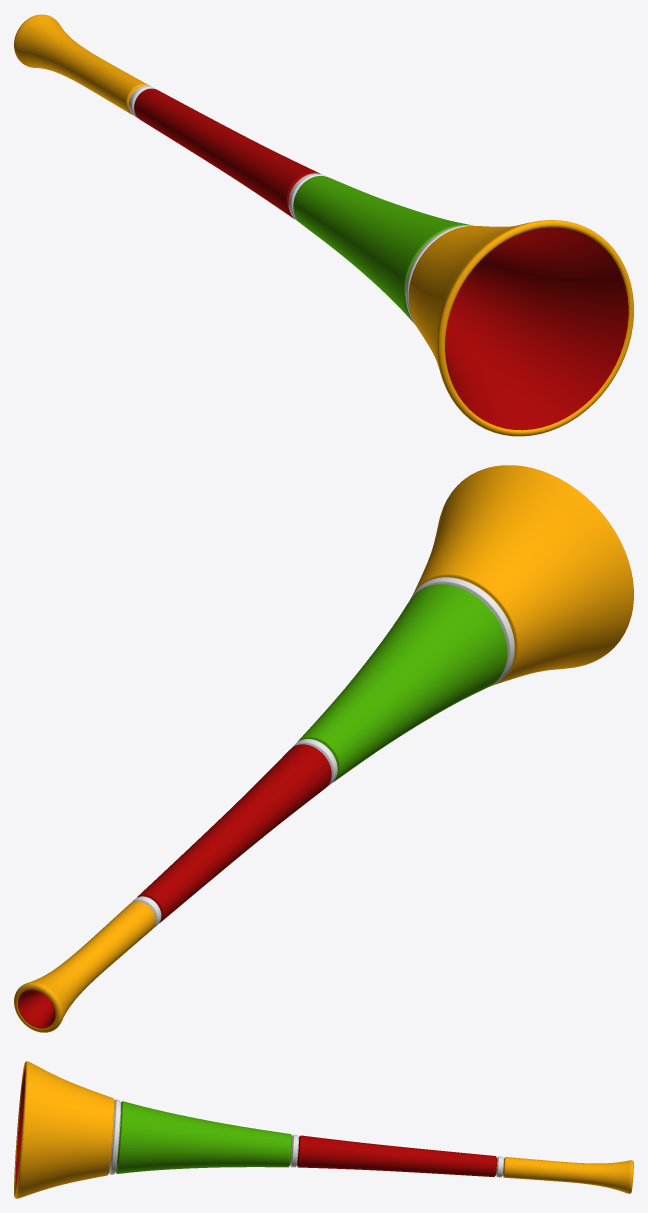
Rendered from cgaxis_models_13_04_fbx.fbx.
3 renders of one model, top to bottom at view 1: azimuth 30°, elevation 25°; view 2: azimuth 150°, elevation 25°; view 3: azimuth 270°, elevation 25°, orthographic. The views are drawn at different scales.
Parts seen in each view (by area): view 1: cgaxis_models_13_04_01; view 2: cgaxis_models_13_04_01; view 3: cgaxis_models_13_04_01.
Boxes of the visible parts, bbox=[...] form: cgaxis_models_13_04_01: bbox=[14, 14, 633, 436]; cgaxis_models_13_04_01: bbox=[14, 465, 633, 1032]; cgaxis_models_13_04_01: bbox=[14, 1061, 633, 1198].
Bounding box in the file's own units: 4.55 × 4.54 × 20.44.
1 material, 1 textured.
